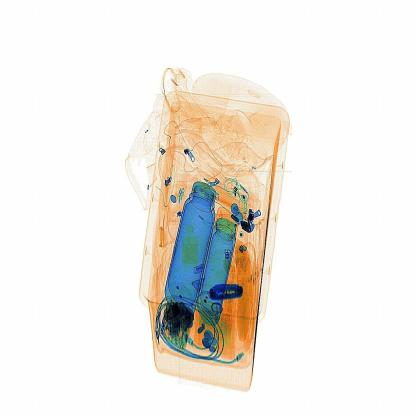scissors: (207, 281, 244, 302)
